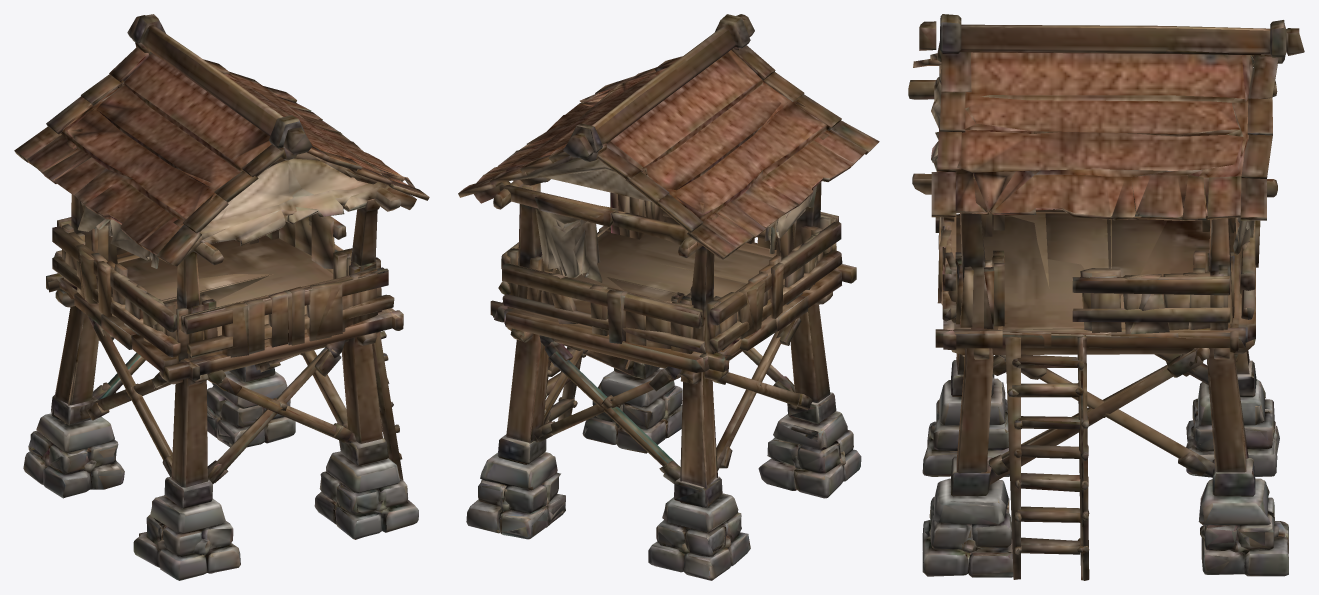
Rendered from shelter_t2_watchtower.glb.
3 views of the same model, side by side, from view 1: azimuth 30°, elevation 25°; view 2: azimuth 150°, elevation 25°; view 3: azimuth 270°, elevation 25° (orthographic). The views are drawn at different scales.
Size of the model in its own units: 0.2642 by 0.3877 by 0.2812.
1 material, 1 textured.
